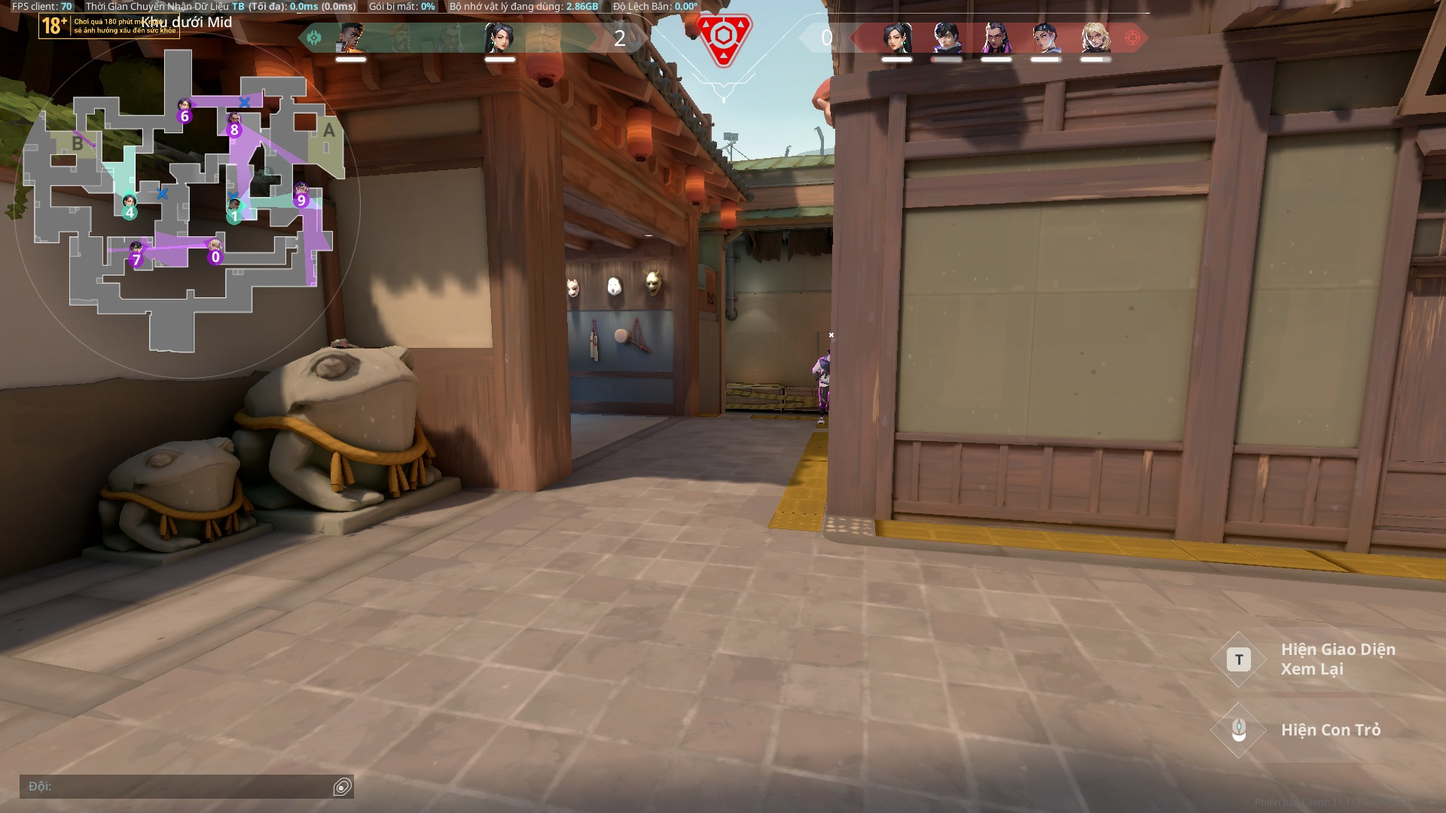body: (816, 355, 830, 387)
head: (825, 343, 830, 355)
